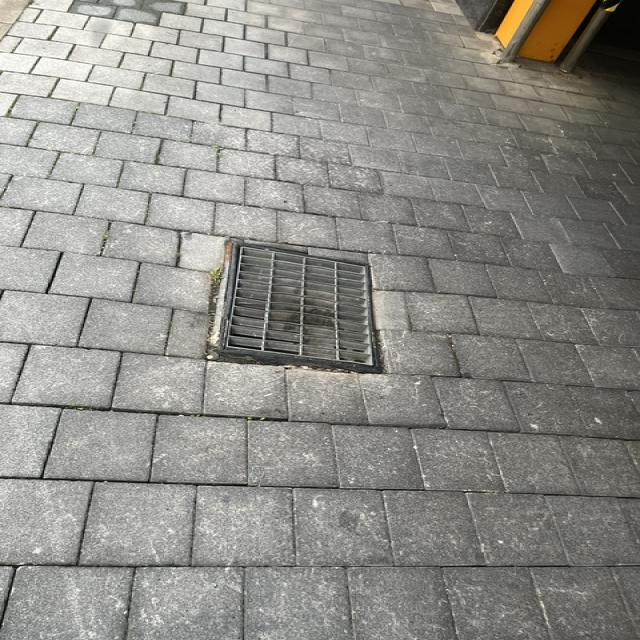drain_area: (225, 244, 375, 367)
drain_full: (225, 245, 375, 367)
